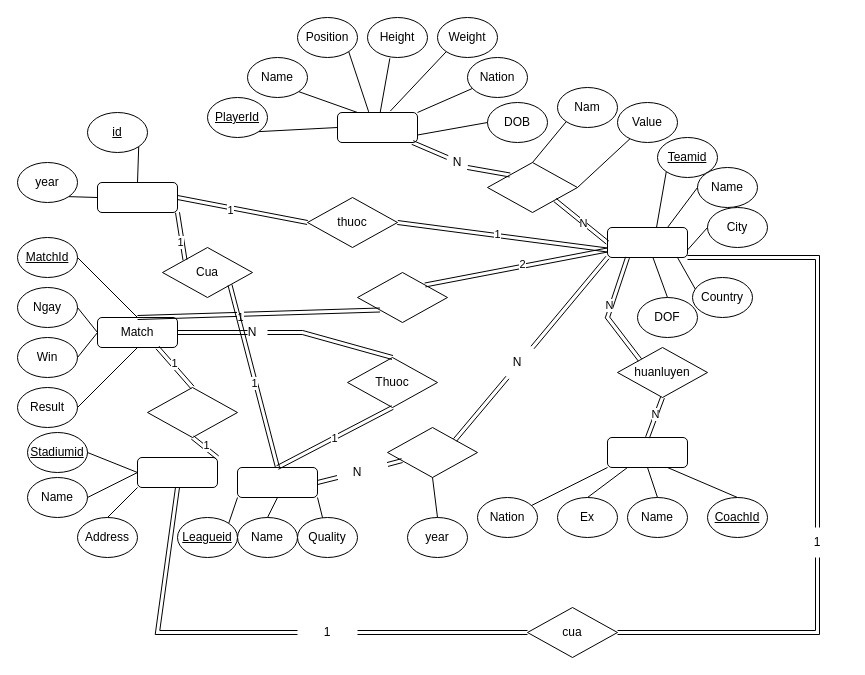
Some shapes in this 865 by 675 pixel diagram are drawn without their labels. Here are the shapes that lost their labels. From the top down, the box of each, then its label:
(336, 112, 418, 142): Player
(96, 182, 178, 212): vodich
(486, 162, 578, 212): thidau
(606, 226, 688, 258): Team
(356, 272, 448, 322): Giua
(146, 386, 238, 438): dien ra
(136, 456, 218, 488): Stadium
(386, 426, 478, 478): thamgia
(606, 436, 688, 468): Coach
(236, 466, 318, 498): League
